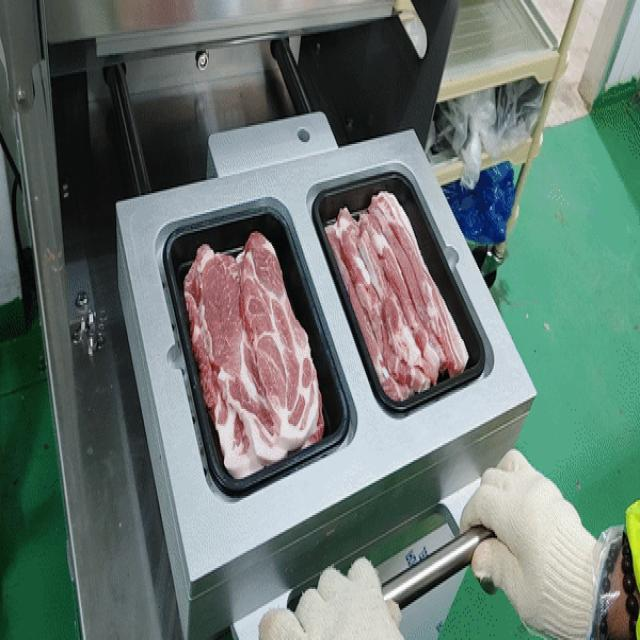pork: (152, 214, 334, 480), (322, 170, 481, 422)
